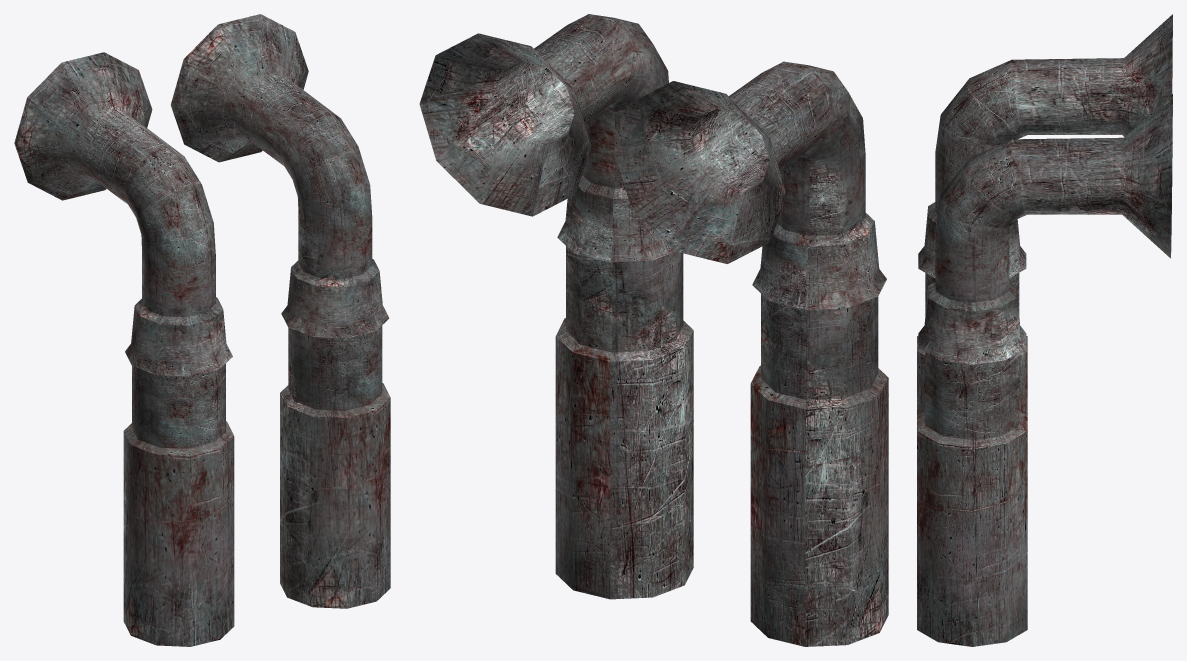
The model's file is pipes-d.FBX.
3 views of the same model, side by side, from view 1: azimuth 30°, elevation 25°; view 2: azimuth 150°, elevation 25°; view 3: azimuth 270°, elevation 25° (orthographic). The views are drawn at different scales.
Parts seen in each view (by area): view 1: PipesD; view 2: PipesD; view 3: PipesD.
Boxes of the visible parts, x1,y1,x2,y2 form: PipesD: (14,14,390,646); PipesD: (419,14,888,646); PipesD: (917,14,1172,646).
Bounding box in the file's own units: 12.57 × 20.24 × 9.06.
